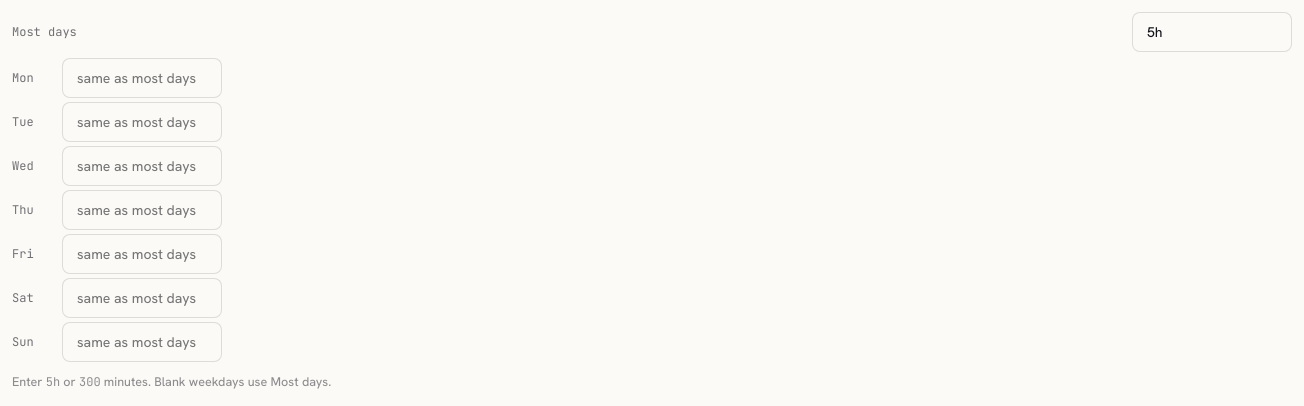
Scenario: <CapacitySection> › abandons an edit on Escape WITHOUT closing the settings sheet
Replace the text in the field named "Working time for the default working day" with "99" at (1212, 32), box [1132, 12, 1292, 52]
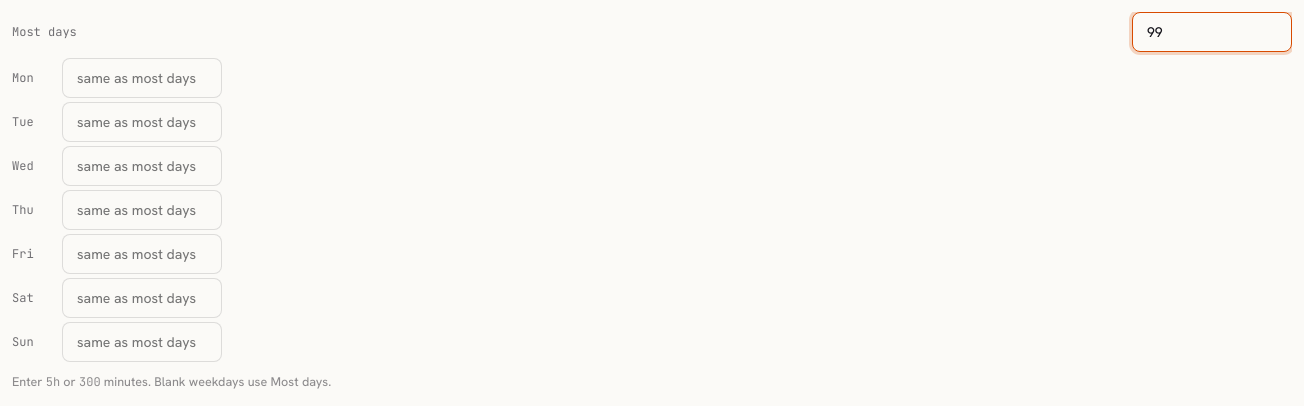
Press Escape
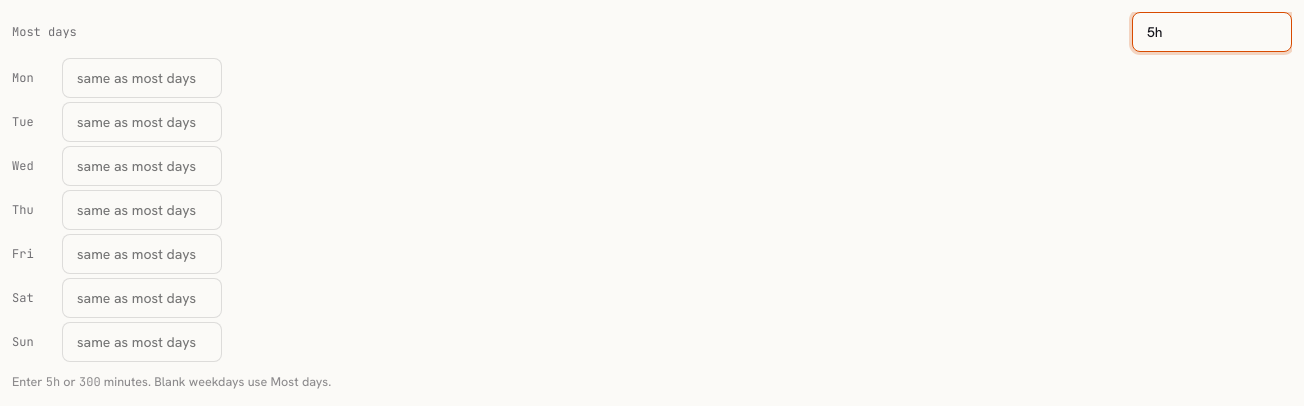
Expected: the field named "Working time for the default working day" holds "5h", [1132, 12, 1292, 52]
